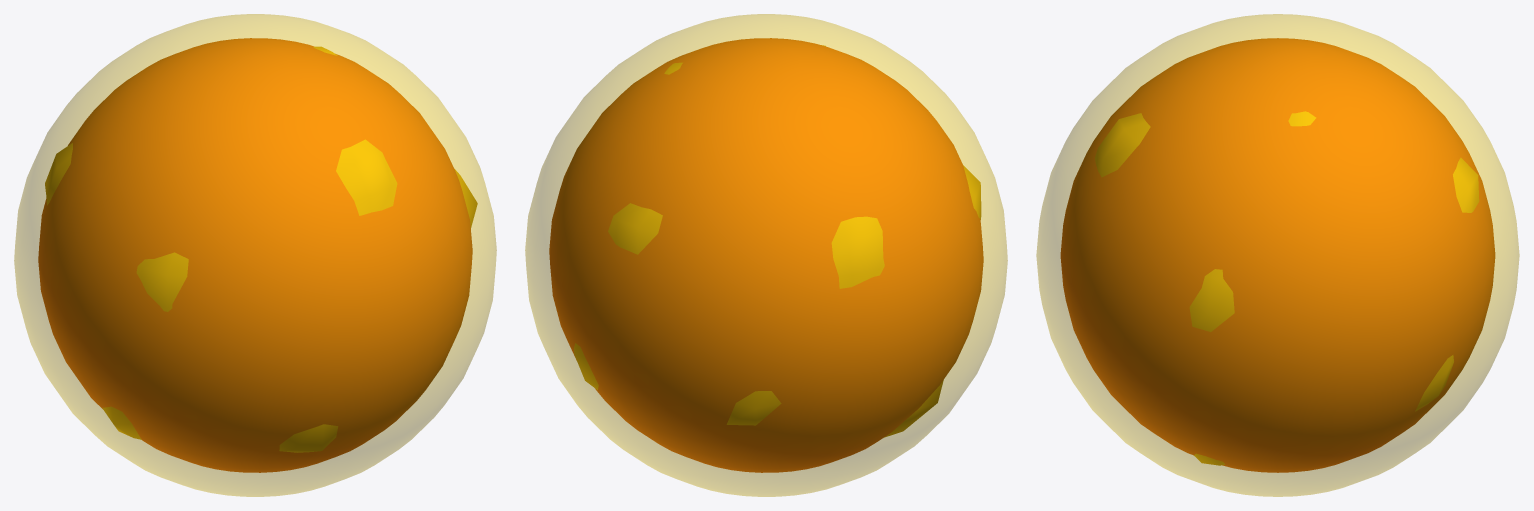
File: planet1.glb
The picture shows the model from 3 angles, left to right: view 1: azimuth 30°, elevation 25°; view 2: azimuth 150°, elevation 25°; view 3: azimuth 270°, elevation 25°; orthographic projection.
Parts seen in each view (by area): view 1: Sphere.1, Sphere, Sphere.2; view 2: Sphere.1, Sphere, Sphere.2; view 3: Sphere.1, Sphere, Sphere.2.
Boxes of the visible parts, x1,y1,x2,y2 form: Sphere.1: (14,14,496,496); Sphere: (38,38,472,472); Sphere.2: (45,46,477,452); Sphere.1: (525,14,1007,496); Sphere: (549,38,983,472); Sphere.2: (574,45,981,437); Sphere.1: (1036,14,1519,496); Sphere: (1060,38,1495,472); Sphere.2: (1095,111,1479,465).
Size of the model in its own units: 100 by 100 by 100.
